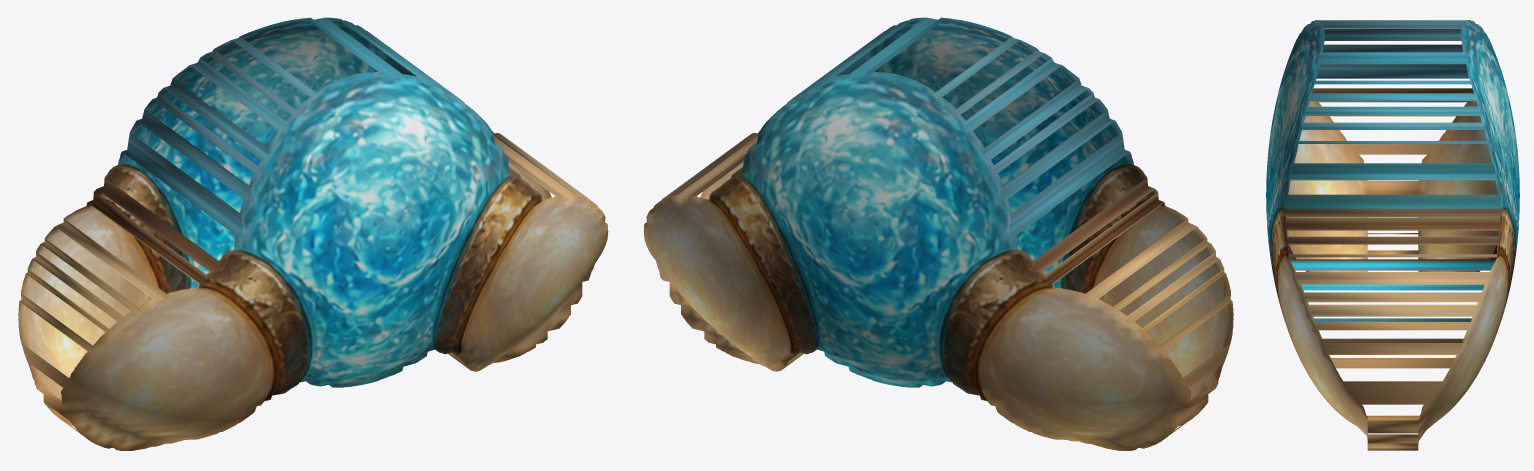
3 views of the same model, side by side, from view 1: azimuth 30°, elevation 25°; view 2: azimuth 150°, elevation 25°; view 3: azimuth 270°, elevation 25° (orthographic). The views are drawn at different scales.
Visible parts, largest first — view 1: matter:6; view 2: matter:6; view 3: matter:6.
Part boxes in pixels (x1,y1,x2,y2): matter:6: (18,17,608,450); matter:6: (643,17,1233,450); matter:6: (1266,20,1519,450).
Size of the model in its own units: 1.52 by 0.9444 by 0.66.
1 material, 1 textured.
